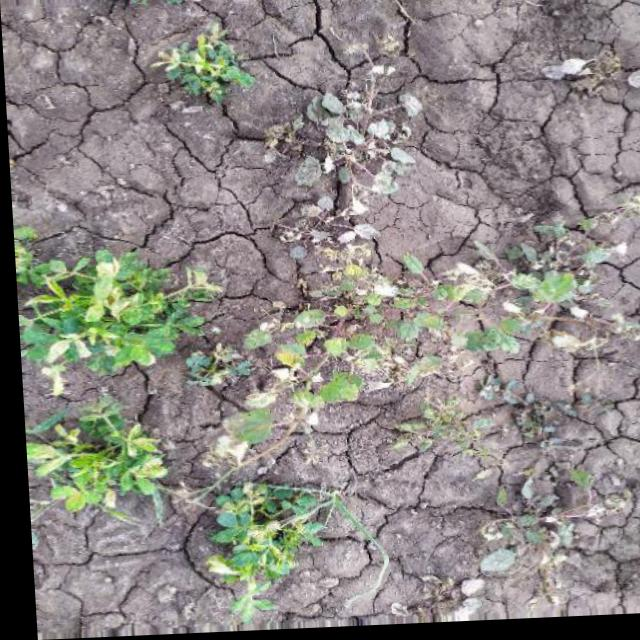weed: (237, 105, 630, 428), (19, 211, 225, 536), (146, 31, 251, 105)
